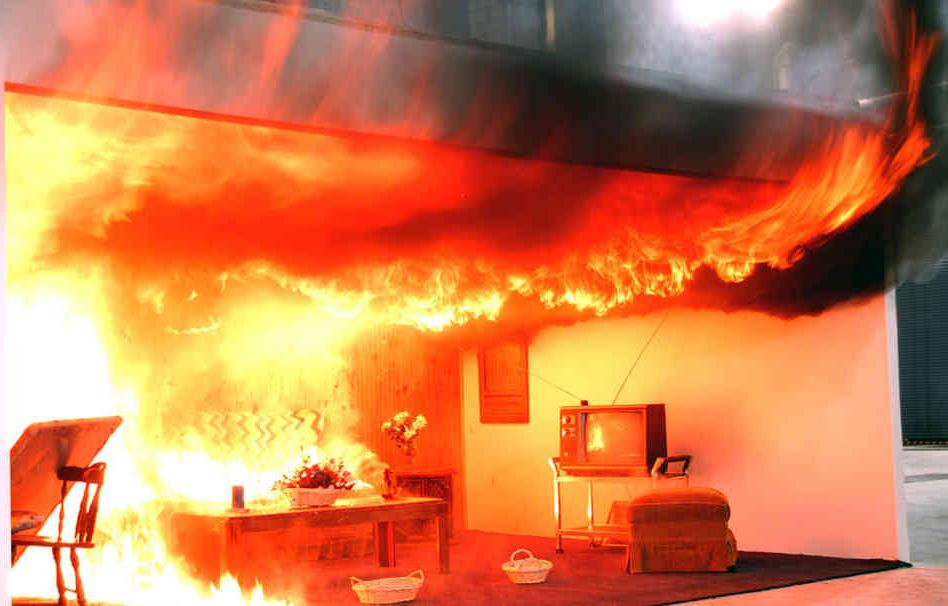fire: (6, 17, 935, 597)
